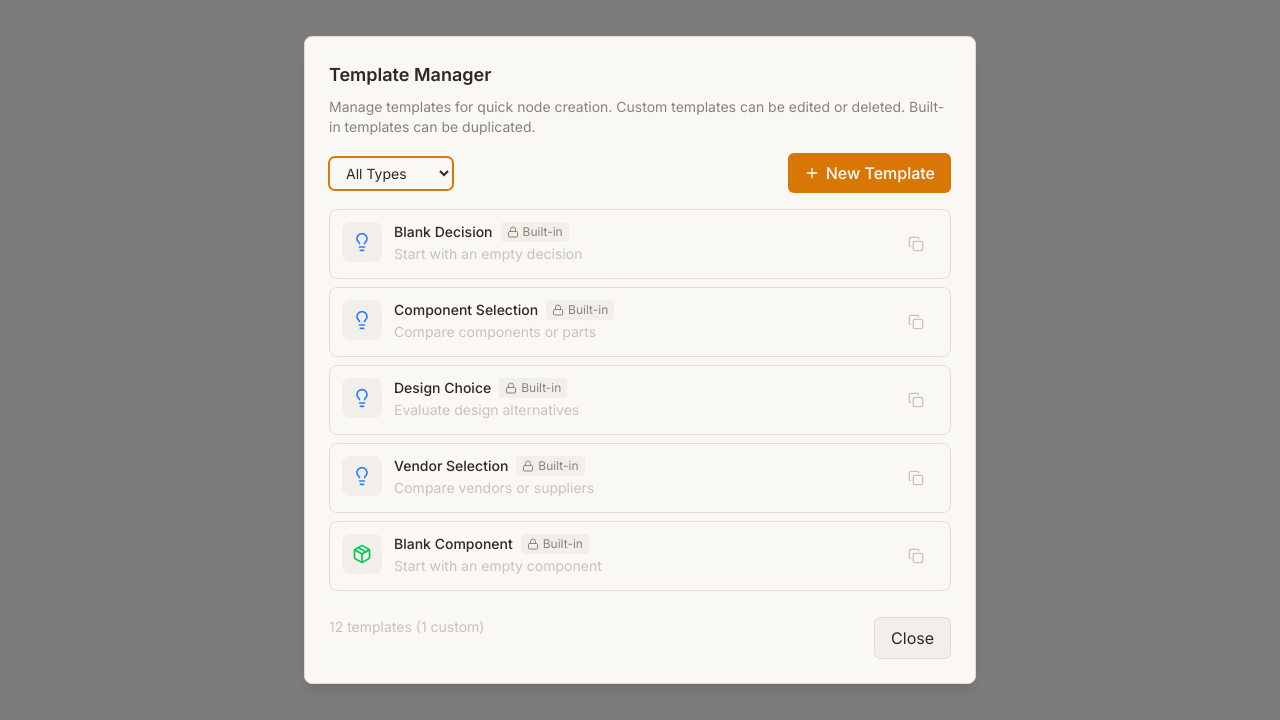
Scenario: TemplateManager › duplicating templates › duplicates a custom template
// Filter to Note type to find our custom template easier
Select "Note" in the dropdown named "Filter by type" at (391, 173), box 329,156 -> 453,190
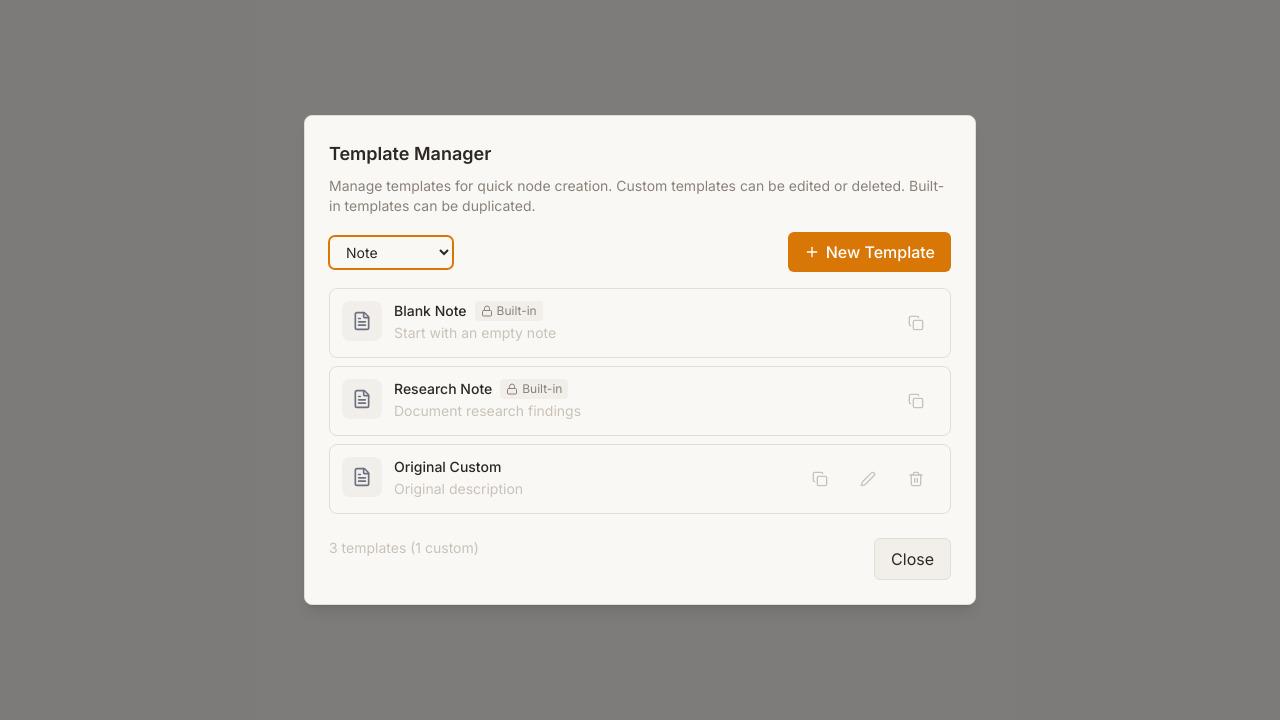
// The last one should be our custom template
Click the button named "duplicate".
click(820, 479)  # box 798,457 -> 842,501
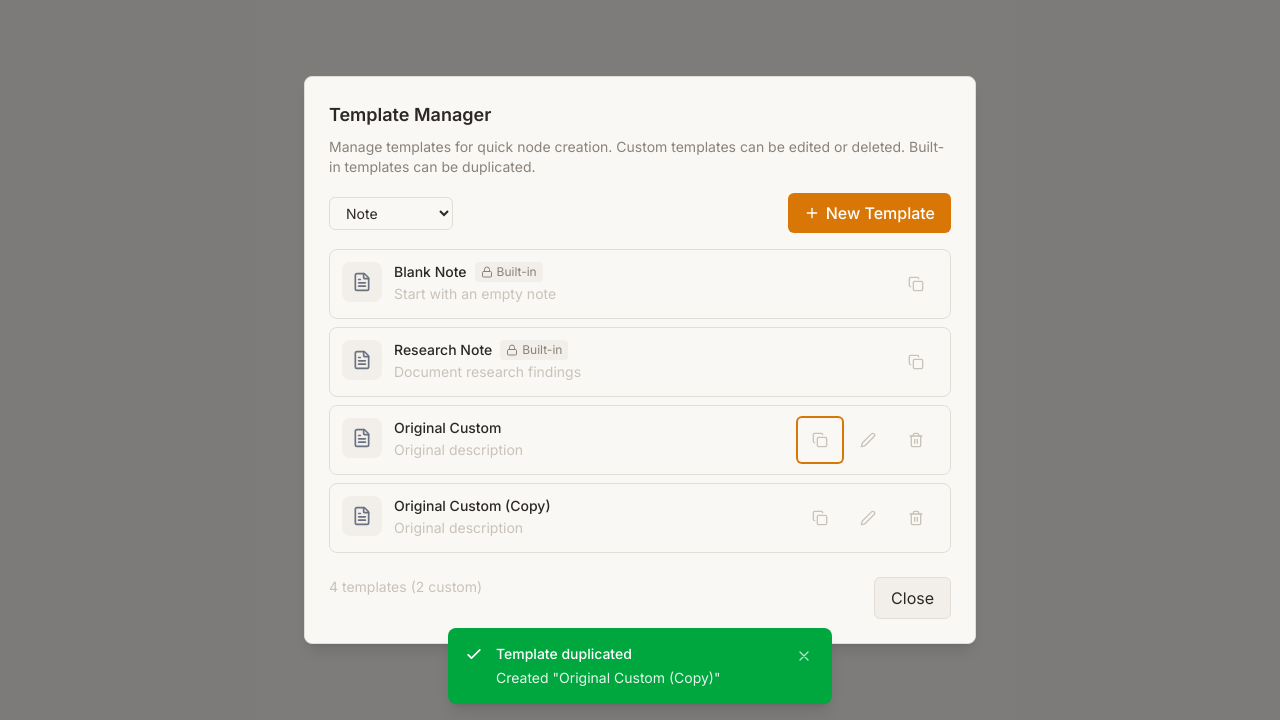
Result: the heading "Original Custom (Copy)" is shown at 394,496 -> 551,516
